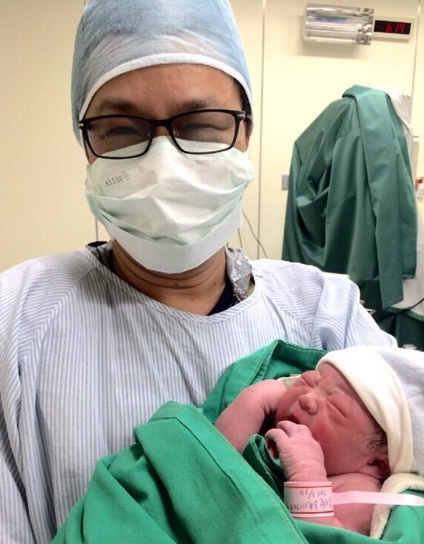face: (276, 360, 379, 481)
face_mask: (86, 46, 240, 270)
